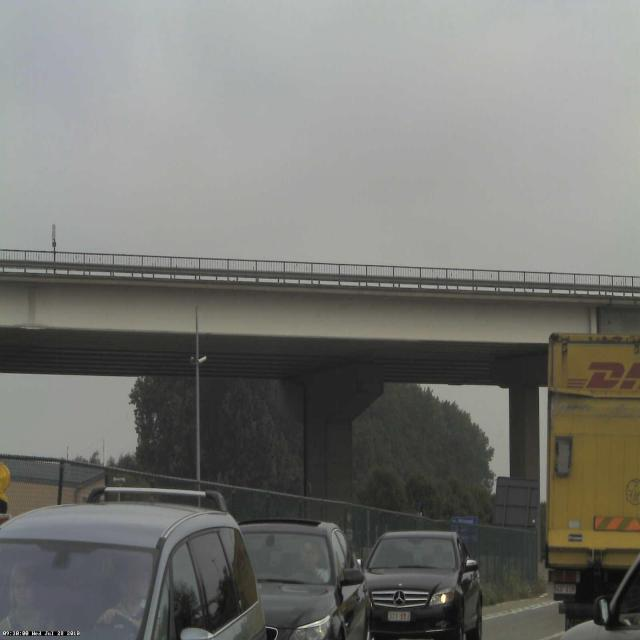other: (548, 322, 639, 570)
